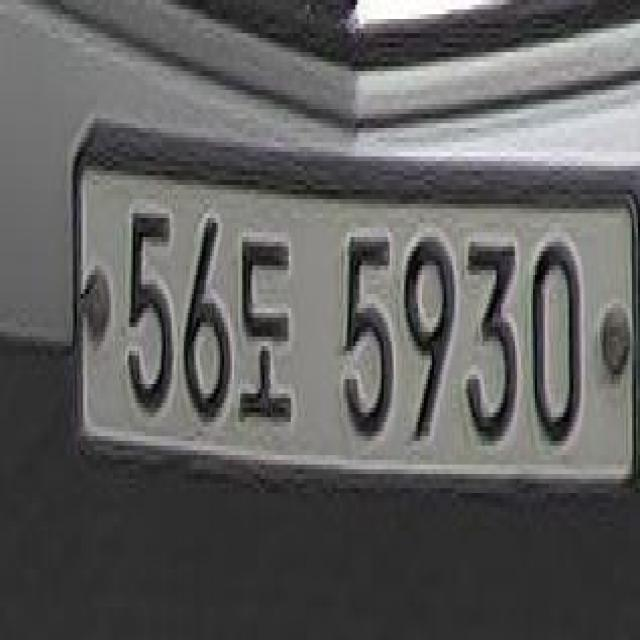illegal_plate: (70, 137, 637, 521)
